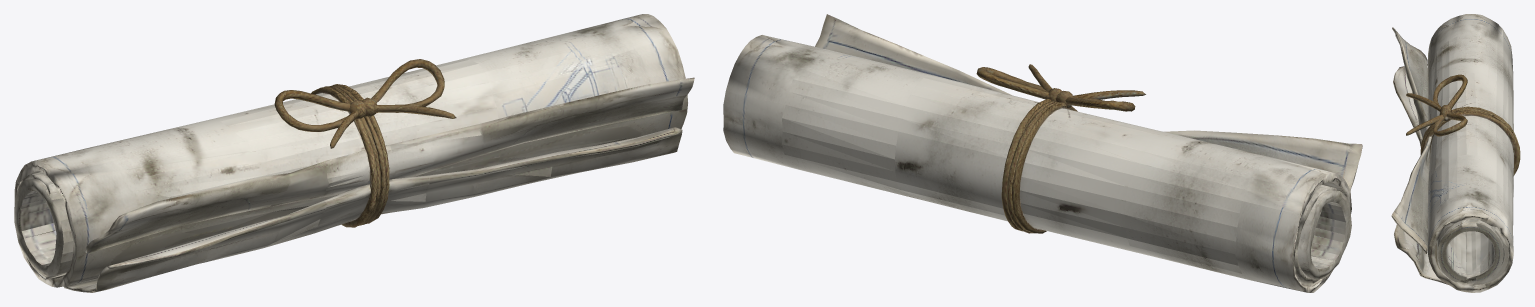
The model's file is building_plan.glb.
3 renders of one model, left to right at view 1: azimuth 30°, elevation 25°; view 2: azimuth 150°, elevation 25°; view 3: azimuth 270°, elevation 25°, orthographic. The views are drawn at different scales.
Visible parts, largest first — view 1: Mesh_0.001; view 2: Mesh_0.001; view 3: Mesh_0.001.
Boxes of the visible parts, <box> form: Mesh_0.001: <box>14,14,694,292</box>; Mesh_0.001: <box>723,14,1362,292</box>; Mesh_0.001: <box>1391,14,1520,292</box>.
Size of the model in its own units: 0.3 by 0.0693 by 0.0814.
1 material, 1 textured.
